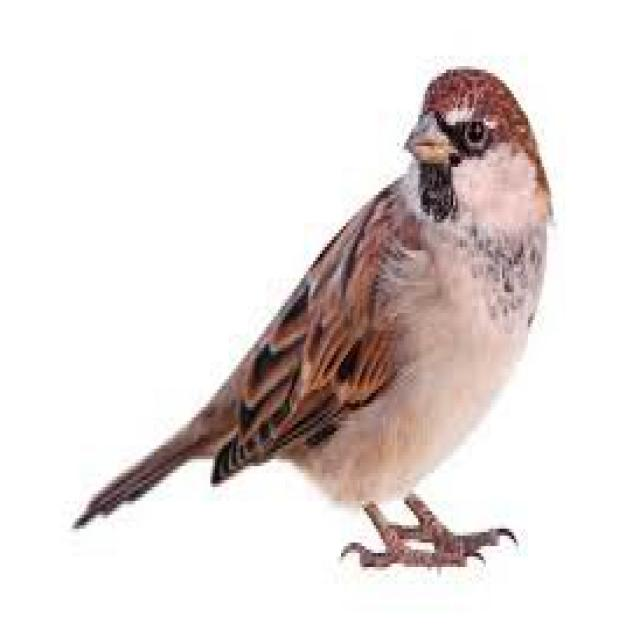sparrow: (77, 66, 554, 560)
